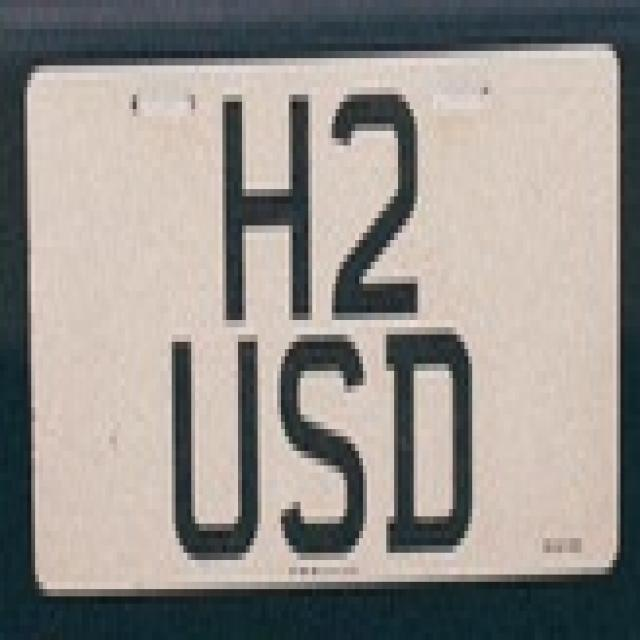LicensePlate: (22, 47, 629, 598)
